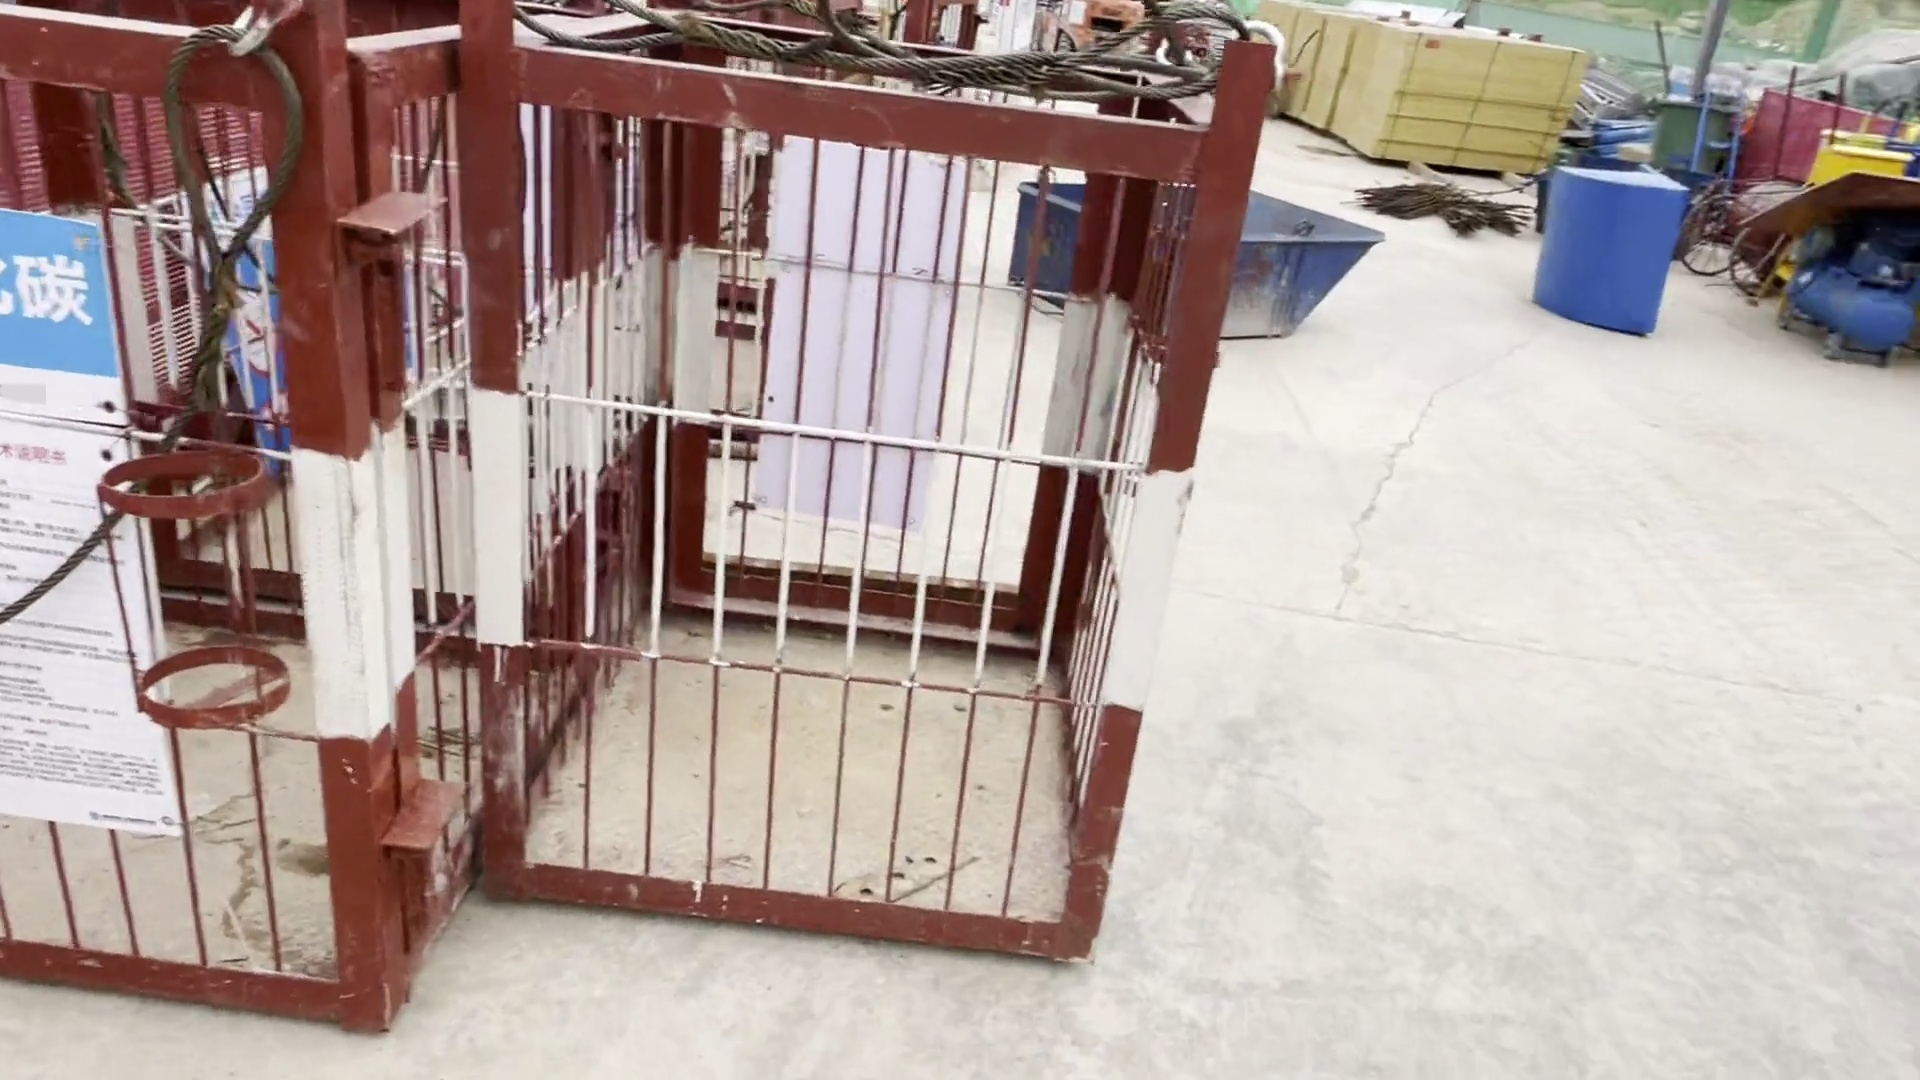handcart: (1689, 78, 1850, 313)
hopper: (996, 185, 1394, 360)
